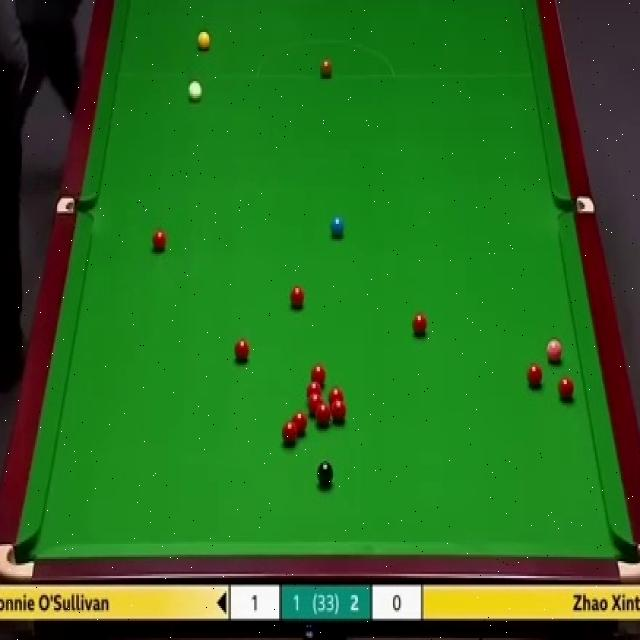black-ball: (316, 459, 334, 490)
blue-ball: (330, 214, 346, 237)
brown-ball: (319, 57, 333, 79)
pink-ball: (546, 338, 563, 364)
red-ball: (233, 337, 251, 366), (292, 413, 310, 439), (528, 363, 546, 389), (281, 421, 298, 447), (330, 400, 347, 426), (558, 377, 576, 401), (413, 311, 428, 338), (289, 286, 306, 309), (152, 229, 166, 254), (316, 402, 330, 426), (309, 364, 327, 382), (306, 380, 322, 397), (308, 395, 322, 414), (329, 389, 343, 403)
white-ball: (186, 78, 201, 106)
yellow-ball: (198, 31, 212, 53)
